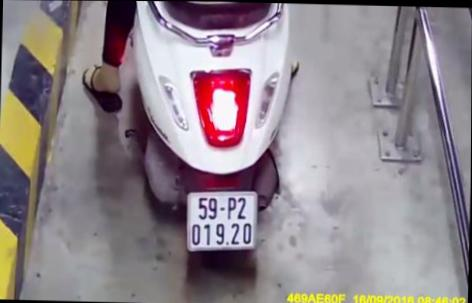LP: (185, 189, 258, 253)
